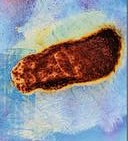Corrosion: (9, 25, 123, 96)
